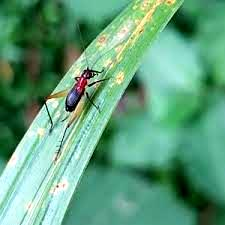Helopeltis-insect: (61, 66, 100, 117)
